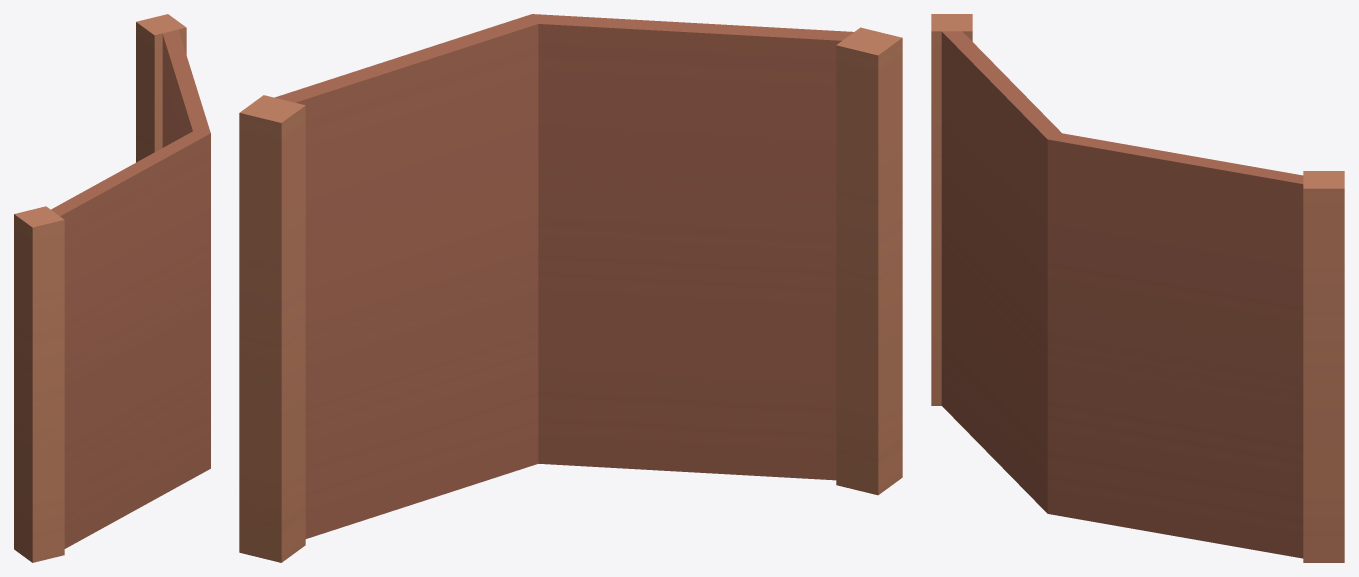
File: wall-wood-corner-edge.fbx
3 views of the same model, side by side, from view 1: azimuth 30°, elevation 25°; view 2: azimuth 150°, elevation 25°; view 3: azimuth 270°, elevation 25° (orthographic). The views are drawn at different scales.
Parts seen in each view (by area): view 1: wall-wood-corner-edge; view 2: wall-wood-corner-edge; view 3: wall-wood-corner-edge.
Boxes of the visible parts, x1=… form: wall-wood-corner-edge: x1=14, y1=14, x2=210, y2=562; wall-wood-corner-edge: x1=239, y1=14, x2=902, y2=562; wall-wood-corner-edge: x1=931, y1=14, x2=1344, y2=562.
Bounding box in the file's own units: 100 × 100 × 100.
1 material, 1 textured.
